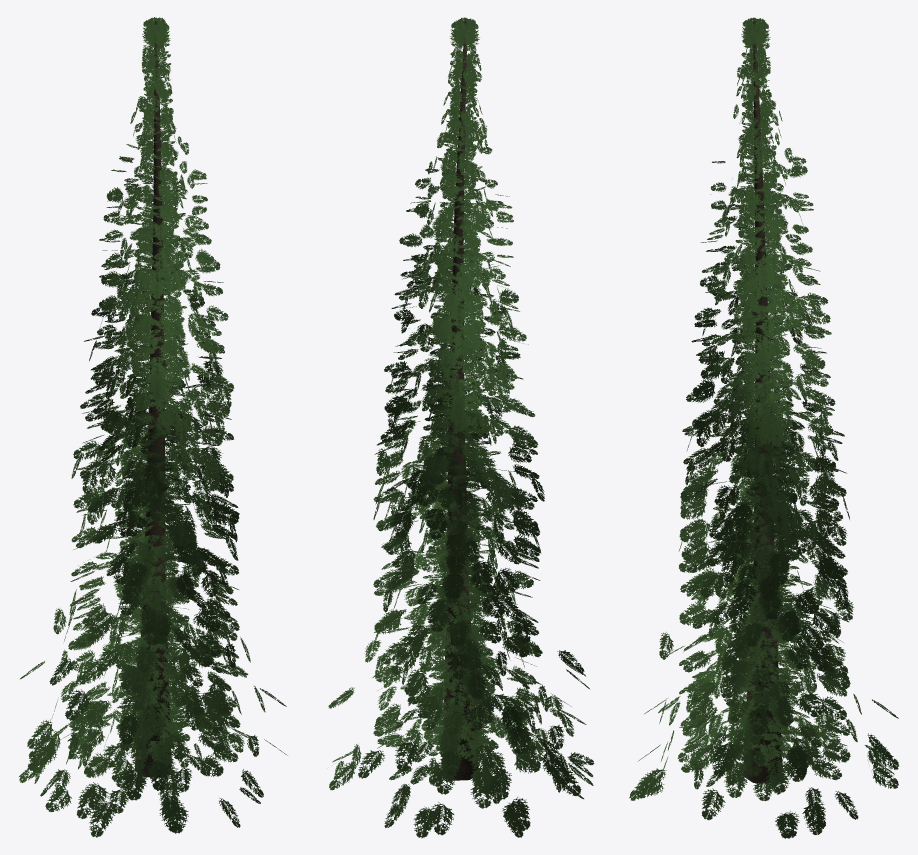
Rendered from spruce_conifer_v03_LOD2.fbx.
3 views of the same model, side by side, from view 1: azimuth 30°, elevation 25°; view 2: azimuth 150°, elevation 25°; view 3: azimuth 270°, elevation 25° (orthographic).
Parts seen in each view (by area): view 1: spruce_conifer_v03_LOD2; view 2: spruce_conifer_v03_LOD2; view 3: spruce_conifer_v03_LOD2.
Boxes of the visible parts, x1,y1,x2,y2 form: spruce_conifer_v03_LOD2: [19, 17, 287, 837]; spruce_conifer_v03_LOD2: [328, 17, 594, 838]; spruce_conifer_v03_LOD2: [629, 17, 898, 838].
Bounding box in the file's own units: 1055 × 1074 × 3305.
2 materials, 2 textured.
